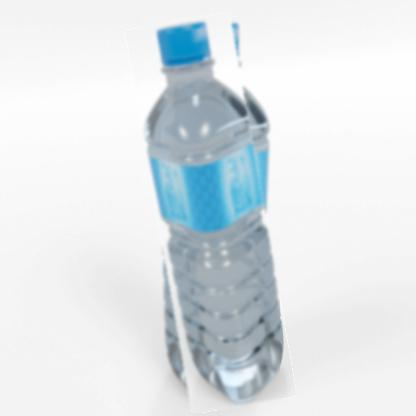plastic-bottles: (142, 16, 282, 412)
